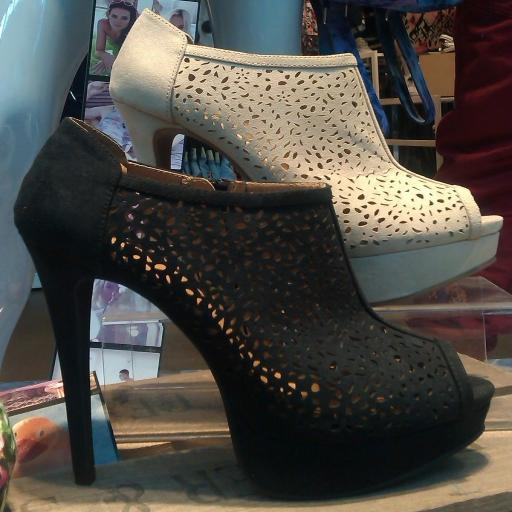heels: (14, 119, 494, 499), (110, 10, 502, 303)
